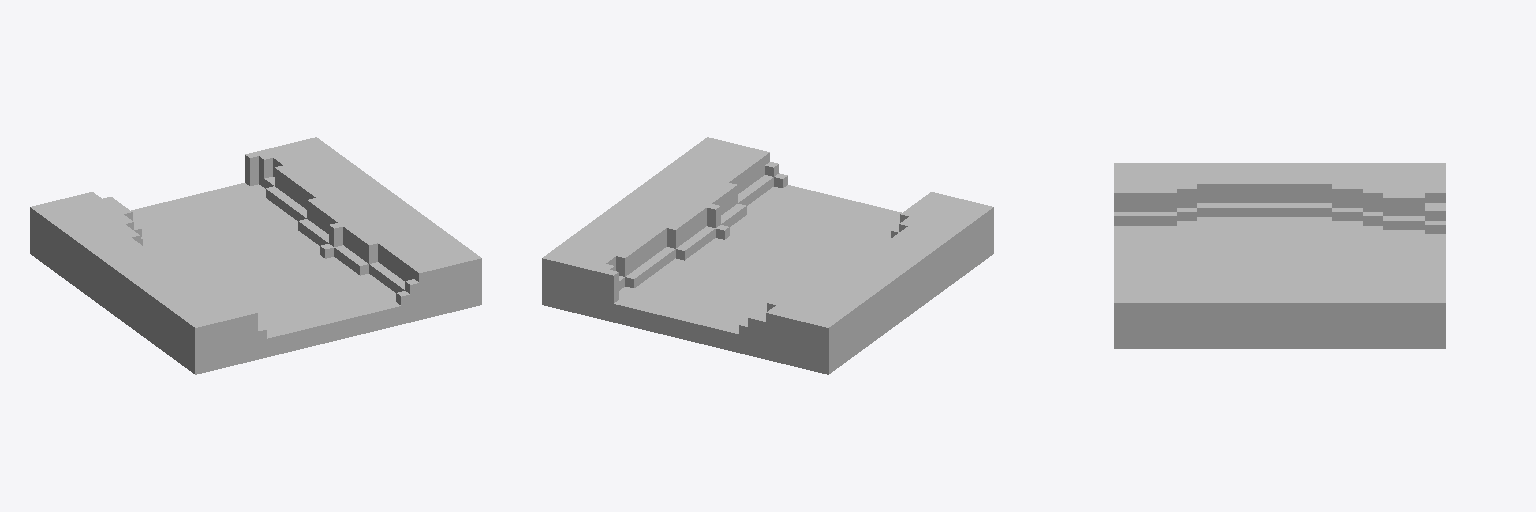
The model's file is Plaines Map-15.obj.
The picture shows the model from 3 angles: view 1: azimuth 30°, elevation 25°; view 2: azimuth 150°, elevation 25°; view 3: azimuth 270°, elevation 25°; orthographic projection.
Parts seen in each view (by area): view 1: object 1; view 2: object 1; view 3: object 1.
Boxes of the visible parts, x1=… form: object 1: x1=30, y1=137, x2=481, y2=374; object 1: x1=542, y1=137, x2=993, y2=374; object 1: x1=1114, y1=163, x2=1445, y2=348.
Bounding box in the file's own units: 3.2 × 0.5 × 3.2.